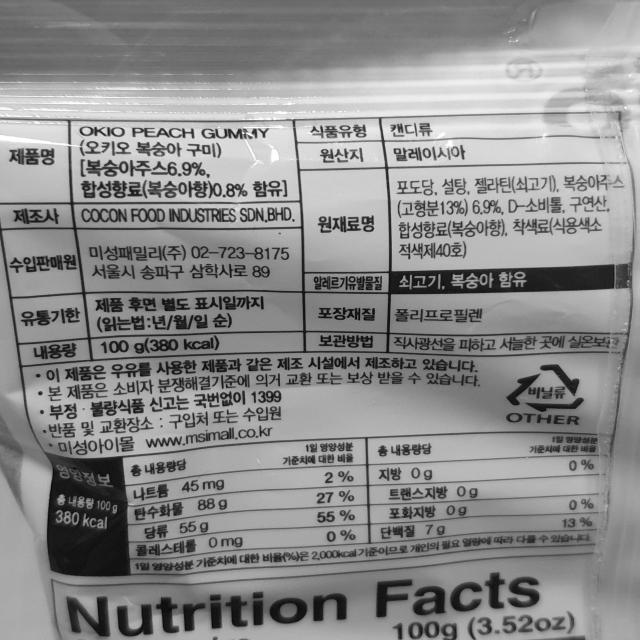Nutrition Label: (47, 433, 608, 575)
